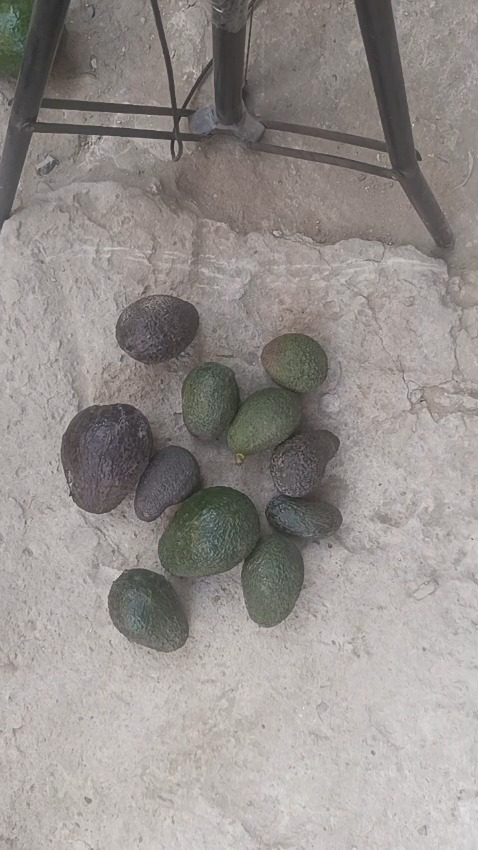Primera: (60, 404, 152, 514), (162, 486, 263, 580)
Segunda: (108, 568, 187, 651), (115, 295, 199, 363), (243, 536, 305, 628)
Tercera: (228, 388, 303, 456), (136, 447, 202, 522), (268, 433, 341, 499), (182, 362, 240, 443), (262, 333, 329, 393), (265, 497, 341, 545)
